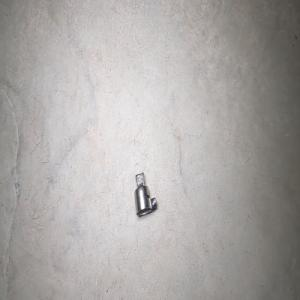MetalPart: (133, 171, 157, 216)
